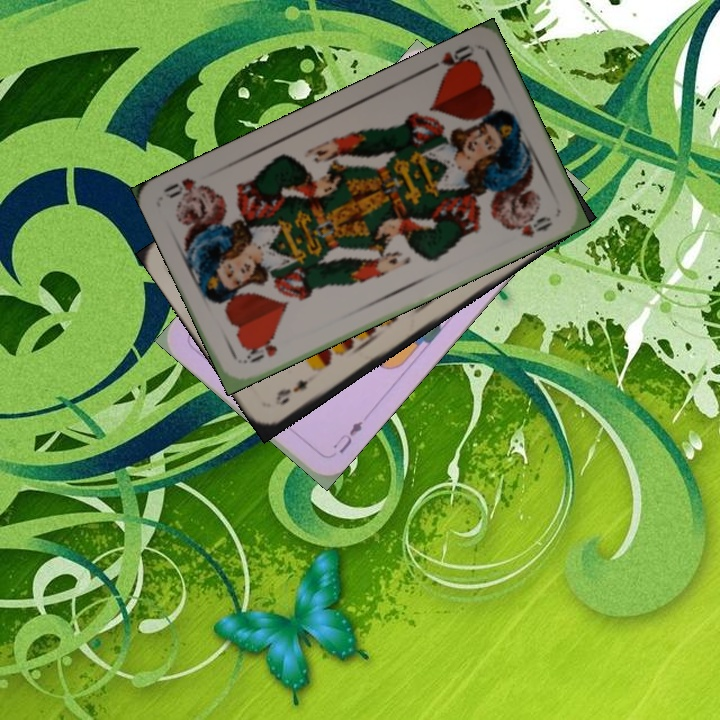E9: (271, 375, 311, 408)
EU: (328, 416, 366, 456)
HO: (422, 40, 479, 80), (239, 334, 280, 367)
